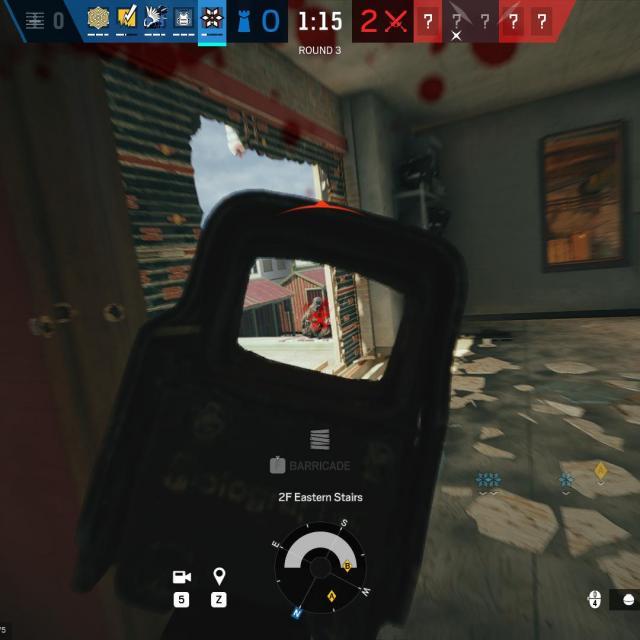Character: (300, 296, 333, 340)
